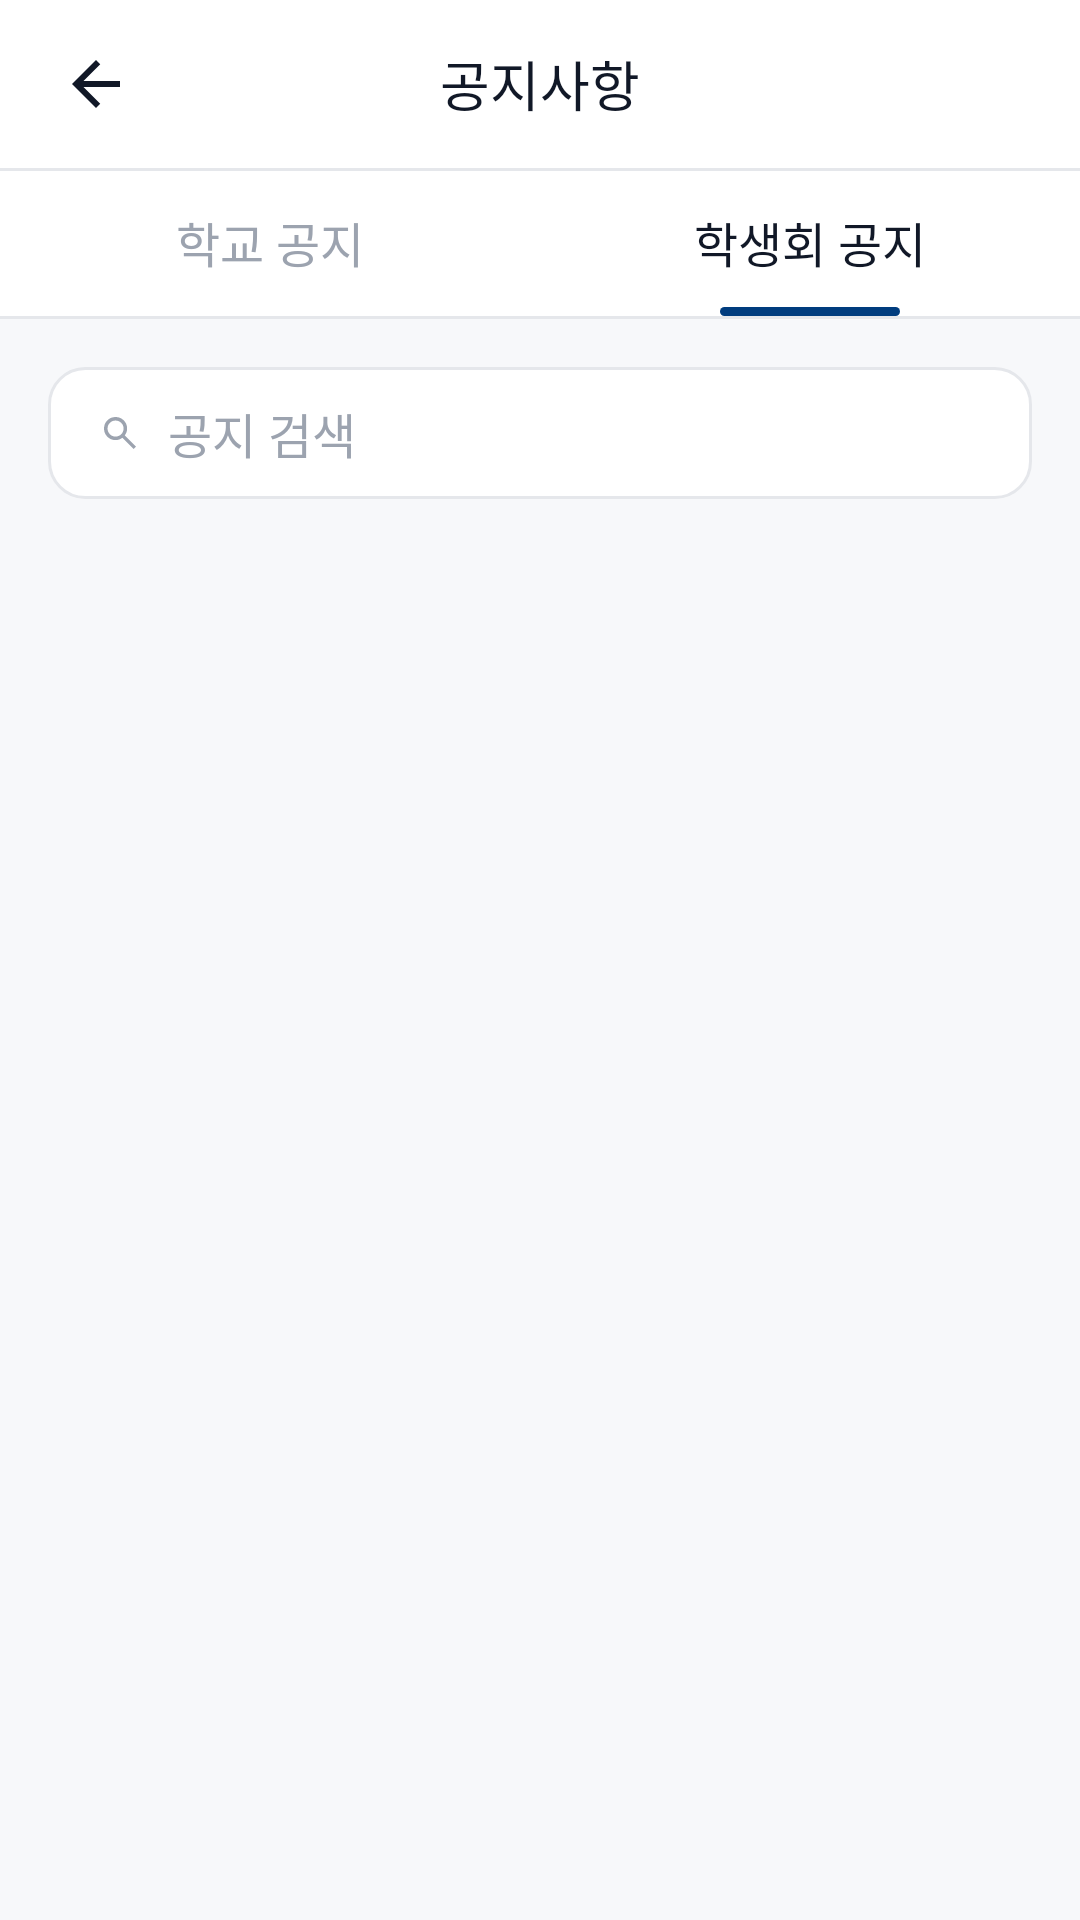

Named icons in this screenshot (1080px×1920px) and their centers, point (x, y):
back: point (96, 84)
searchicon: point (120, 433)
